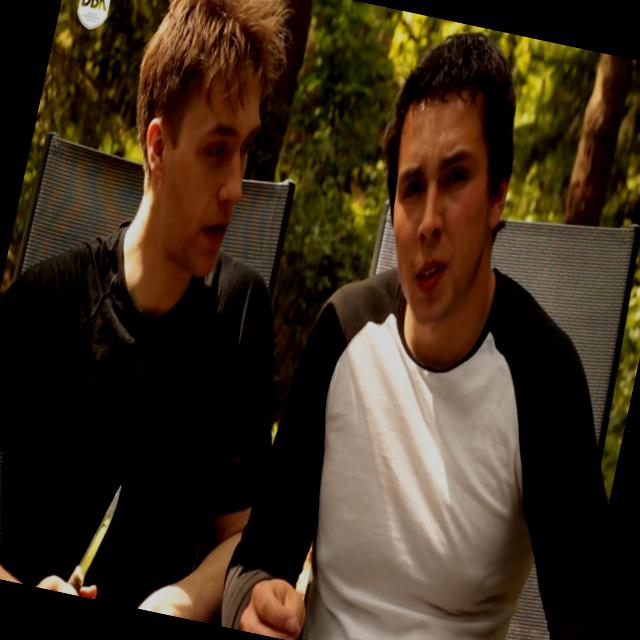knife: (42, 458, 138, 602)
